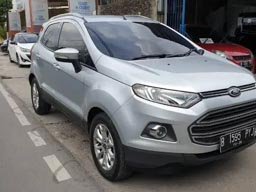plat: (221, 125, 254, 152)
